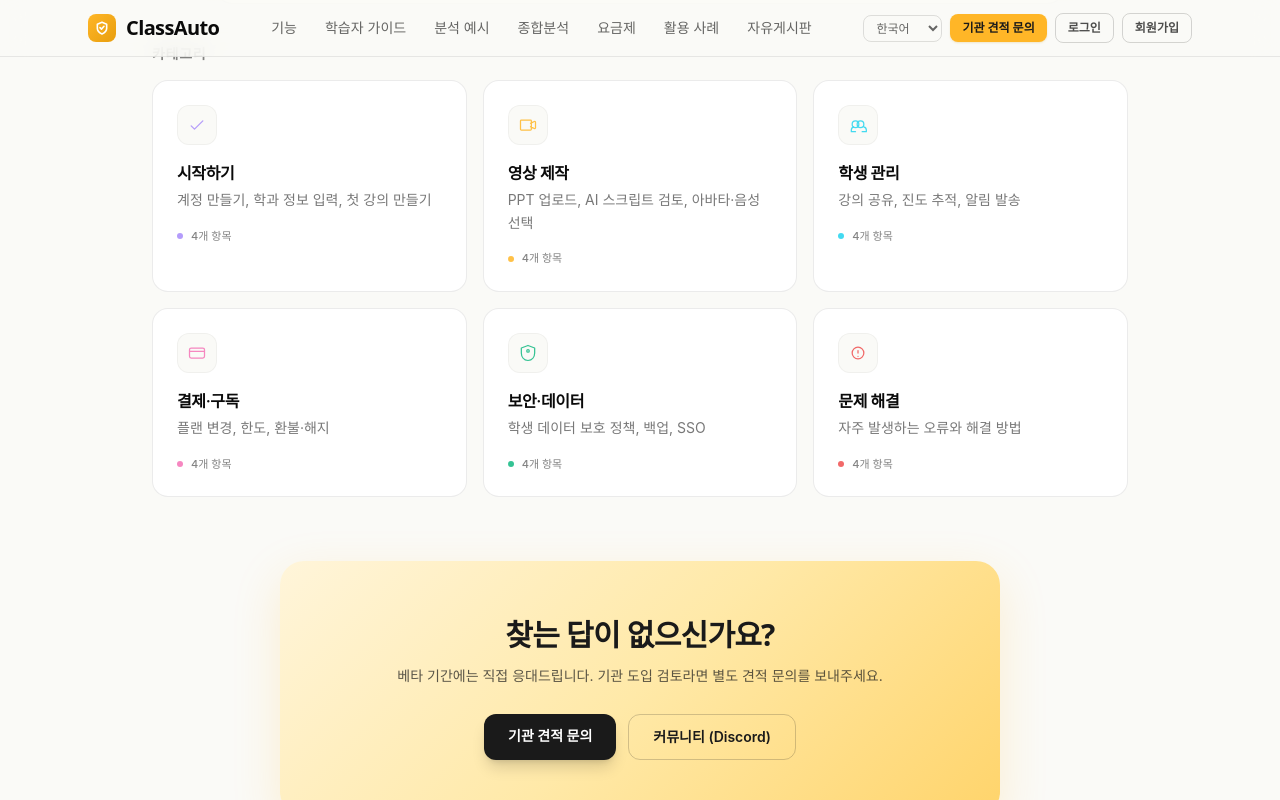
Test: HelpContent › switches to category detail when a category card is clicked
(page scrolled)
Click the heading "결제·구독" at point(208, 401), box [177,389,239,413]
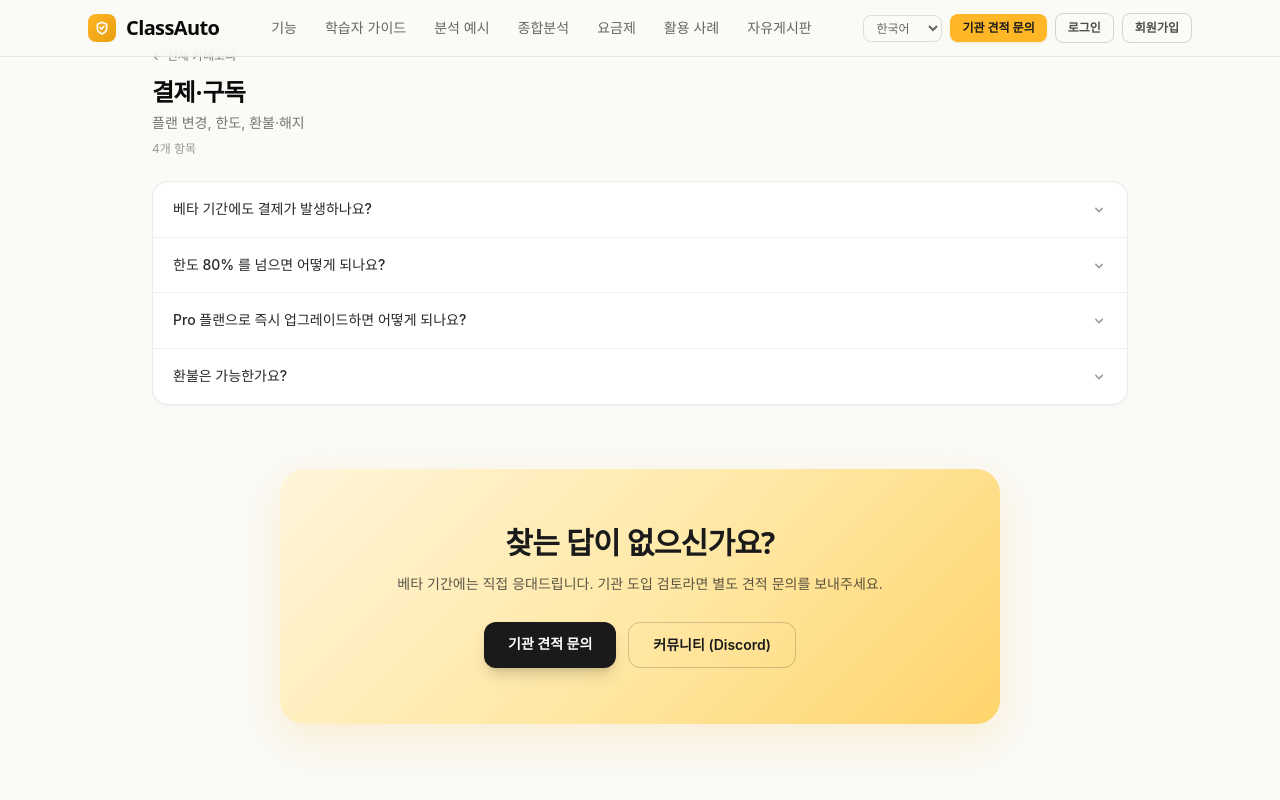
Result: the button "← 전체 카테고리" is shown at [152,48,236,64]
Result: the text "베타 기간에도 결제가 발생하나요?" is shown at [173,198,372,221]
